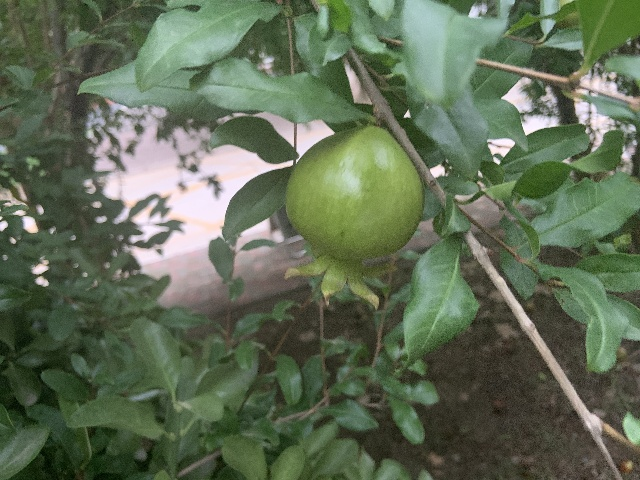mid-growth: (283, 126, 423, 305)
